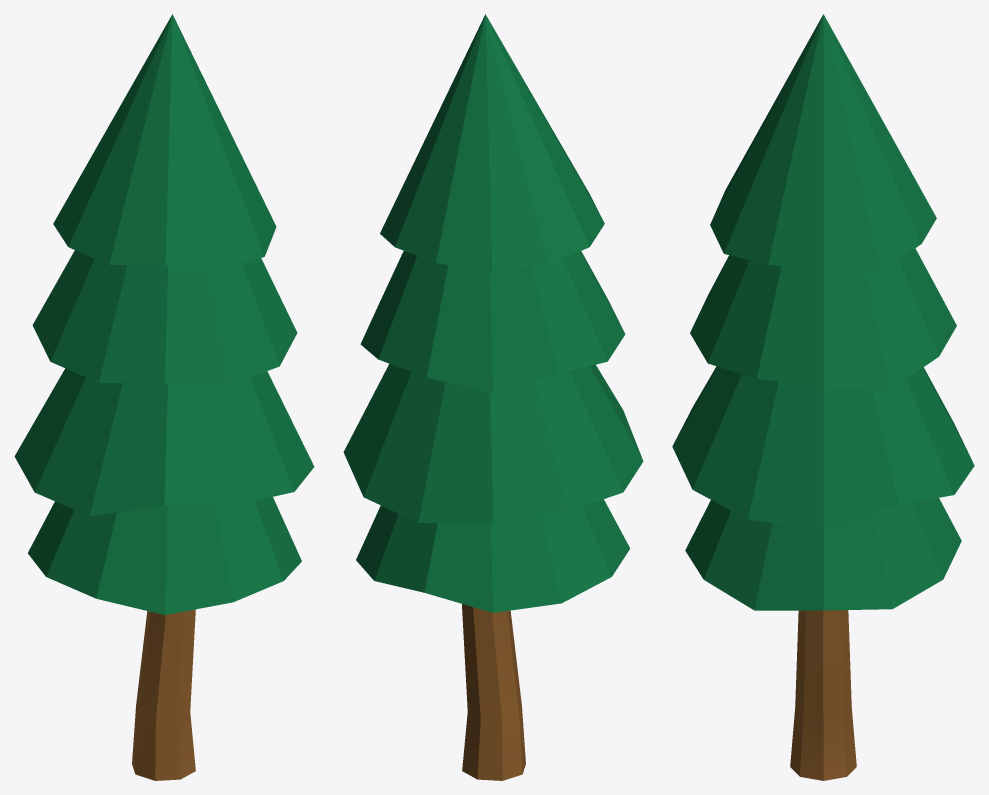
Rendered from Tree 1.fbx.
3 views of the same model, side by side, from view 1: azimuth 30°, elevation 25°; view 2: azimuth 150°, elevation 25°; view 3: azimuth 270°, elevation 25° (orthographic).
Parts seen in each view (by area): view 1: pCone22; view 2: pCone22; view 3: pCone22.
Boxes of the visible parts, x1,y1,x2,y2 form: pCone22: (14, 14, 314, 780); pCone22: (343, 14, 643, 780); pCone22: (672, 14, 974, 780).
Size of the model in its own units: 242 by 668 by 242.
